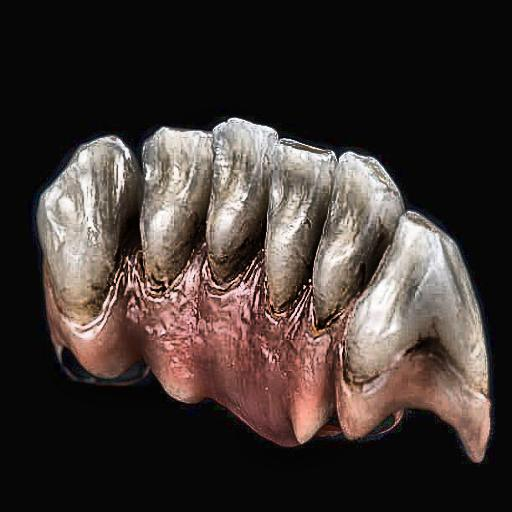Calculus: (32, 174, 440, 416)
